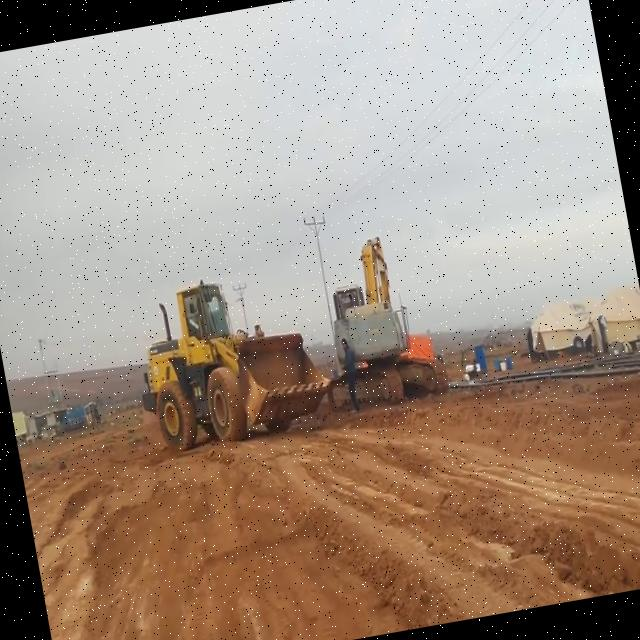Excavator: (307, 230, 450, 418)
Loader: (122, 261, 336, 454)
